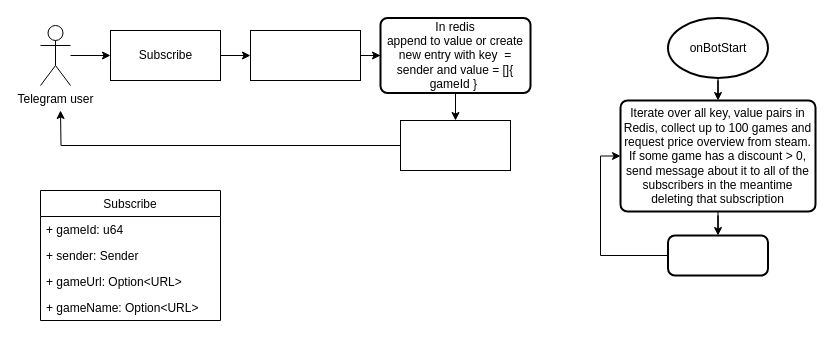
Some shapes in this 833 by 341 pixel diagram are drawn without their labels. Each missing label, with the centre of its shape:
"Bot" belongs at pixel 305 55.
"Sleep for 4 hours" belongs at pixel 717 255.
"Status message" belongs at pixel 455 145.
